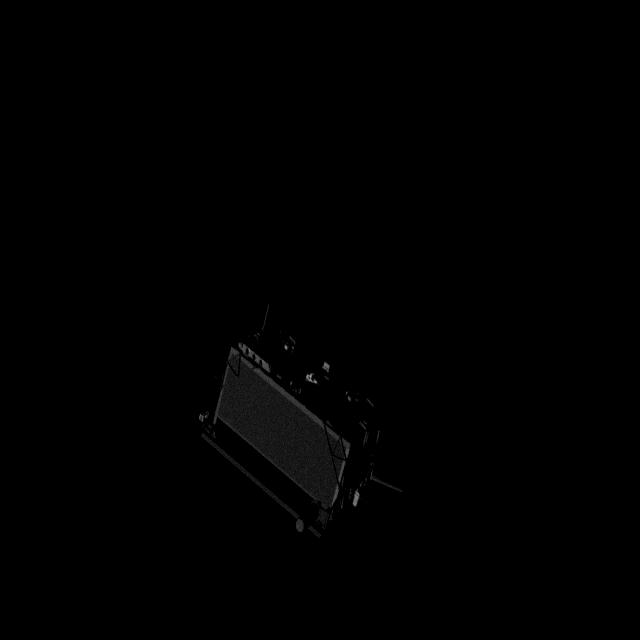satellite: (184, 300, 408, 532)
